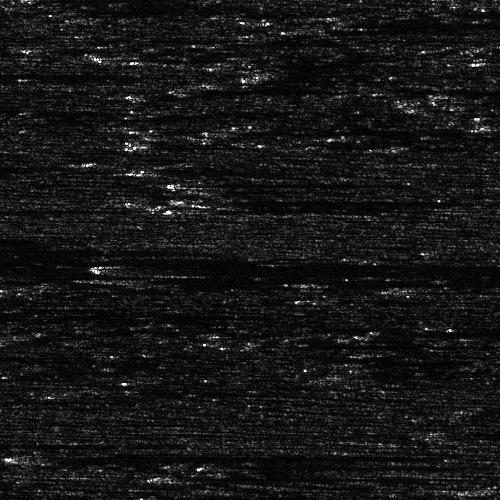rock: (148, 194, 253, 209), (116, 262, 189, 273), (0, 452, 64, 463), (148, 176, 211, 187), (137, 471, 200, 480), (0, 264, 26, 277), (207, 462, 270, 467), (272, 280, 325, 285), (131, 169, 152, 172), (0, 206, 9, 211)
shadow: (0, 249, 481, 264), (0, 264, 437, 277), (23, 452, 390, 463), (201, 194, 435, 209), (153, 262, 457, 273), (169, 471, 399, 480), (180, 176, 336, 187), (239, 462, 469, 467), (0, 440, 185, 445), (299, 280, 456, 285), (142, 169, 297, 172), (0, 72, 130, 75), (0, 206, 38, 211), (0, 248, 163, 249)
